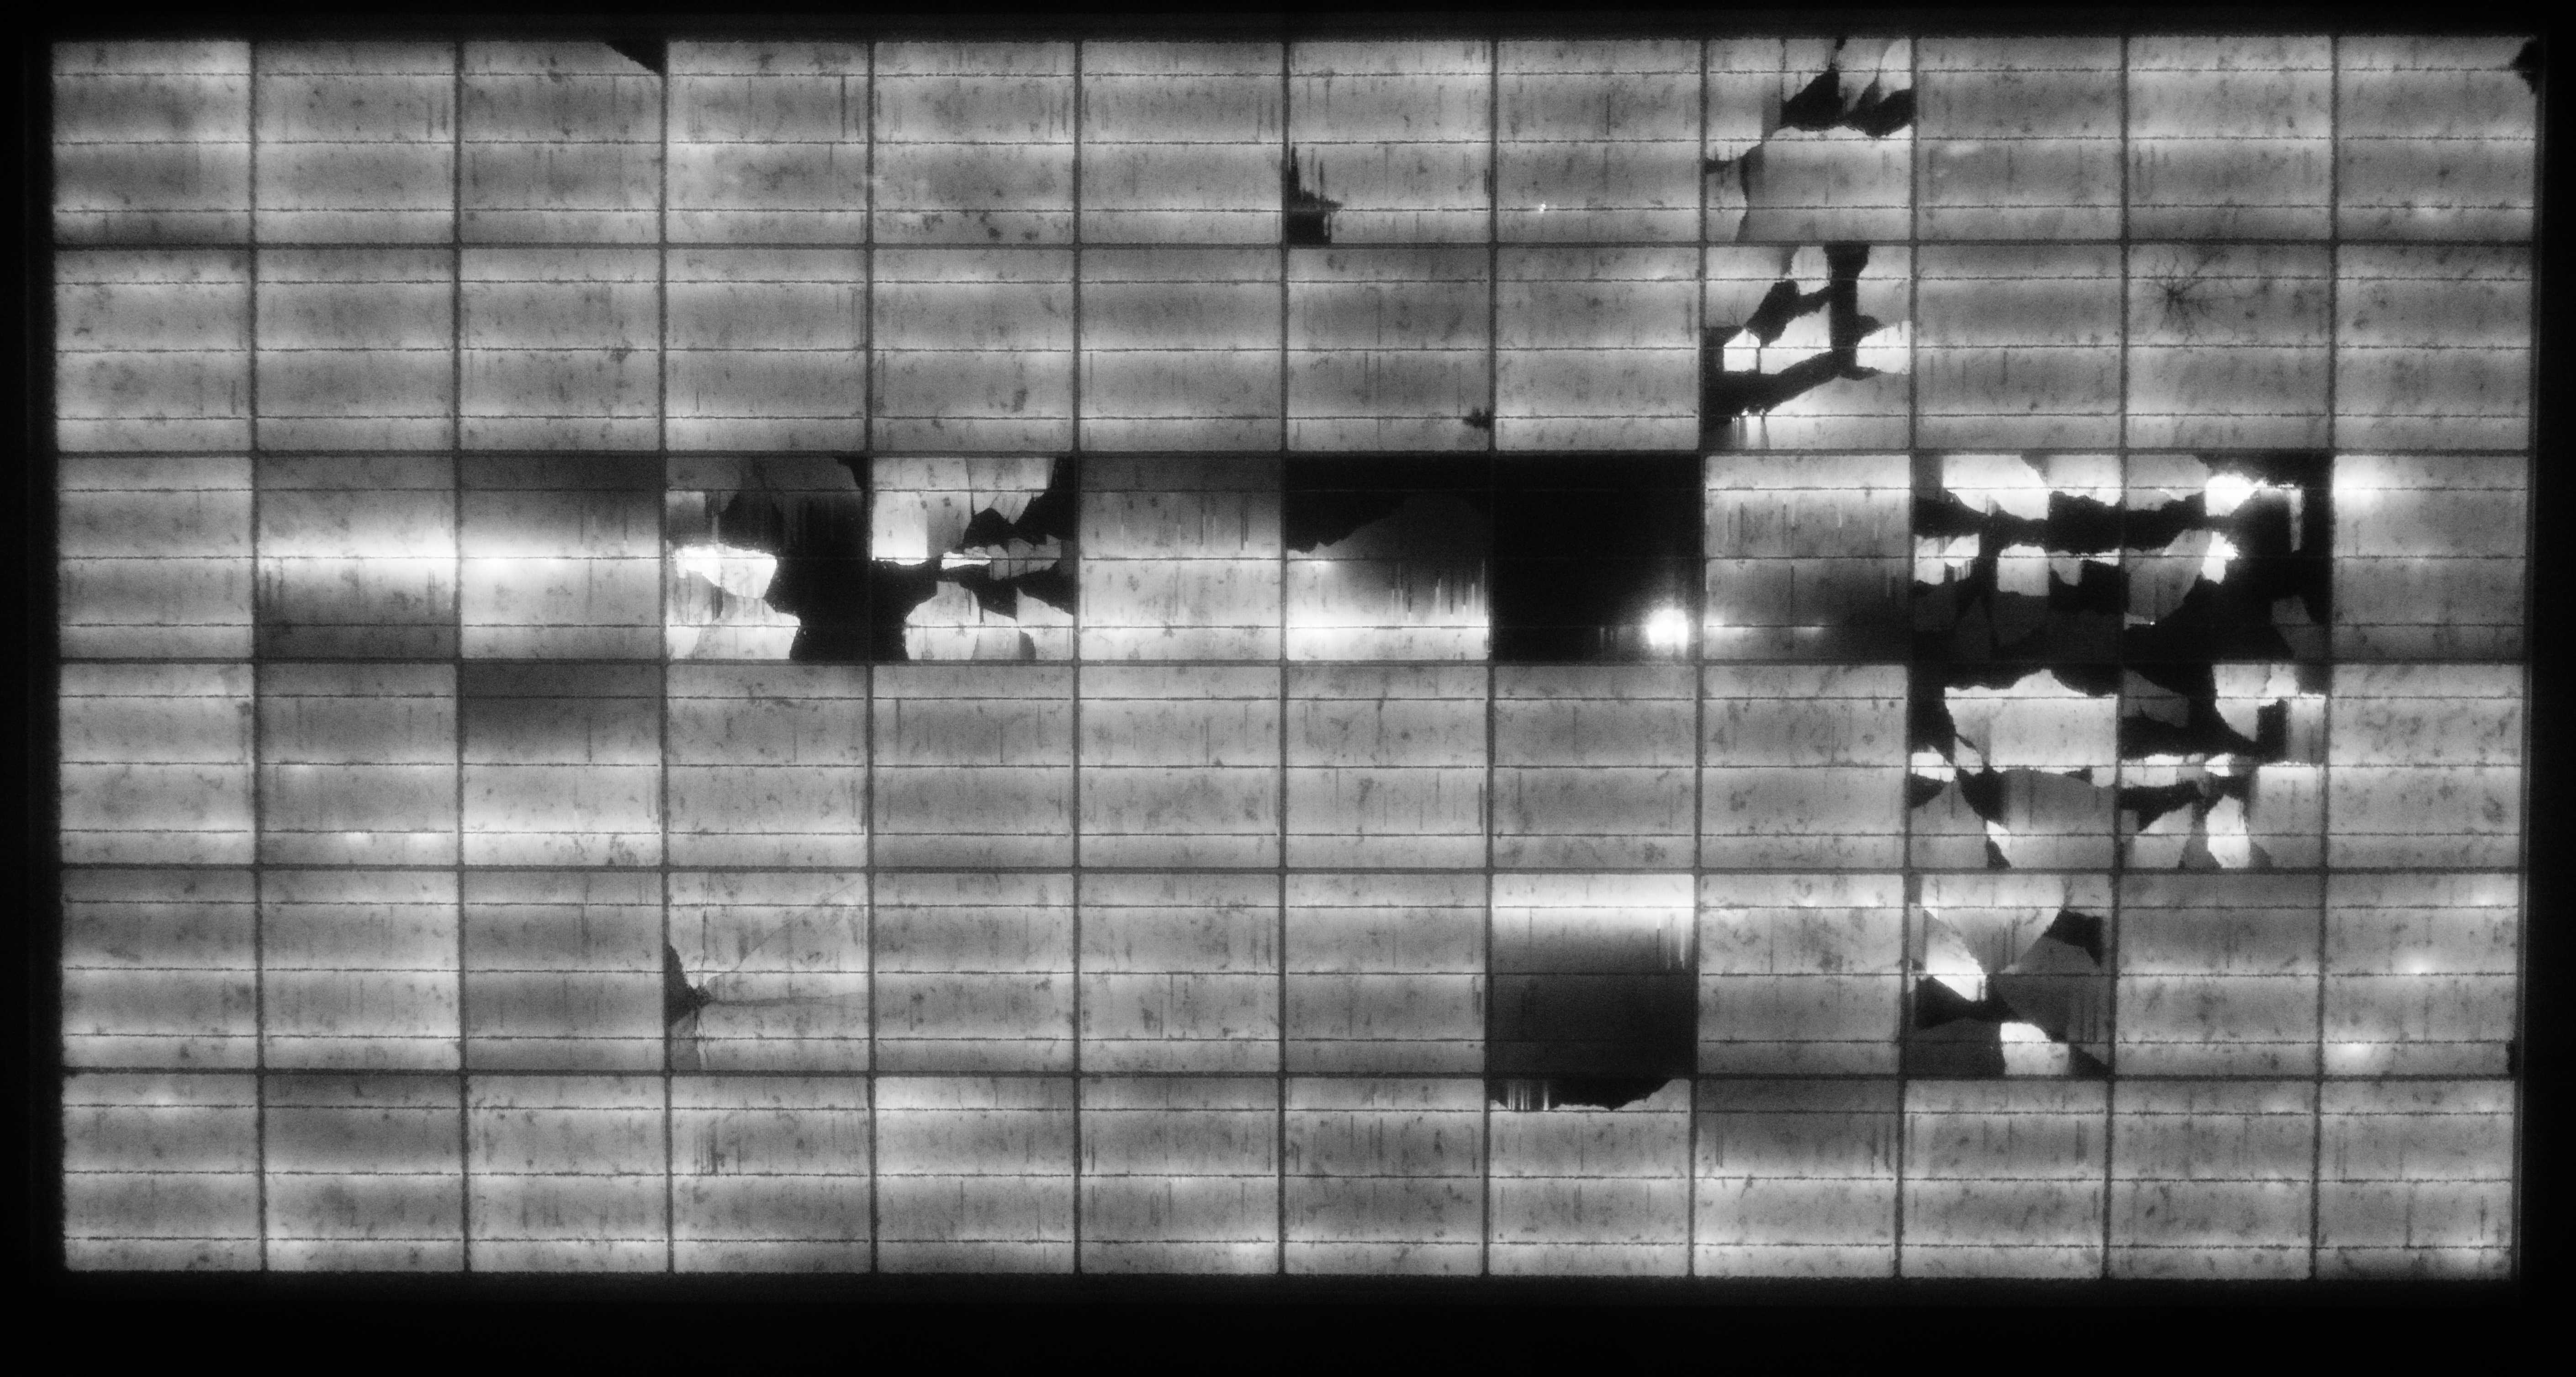5,11: (2315, 22, 2552, 259), (44, 1053, 279, 1288), (34, 29, 269, 261)
